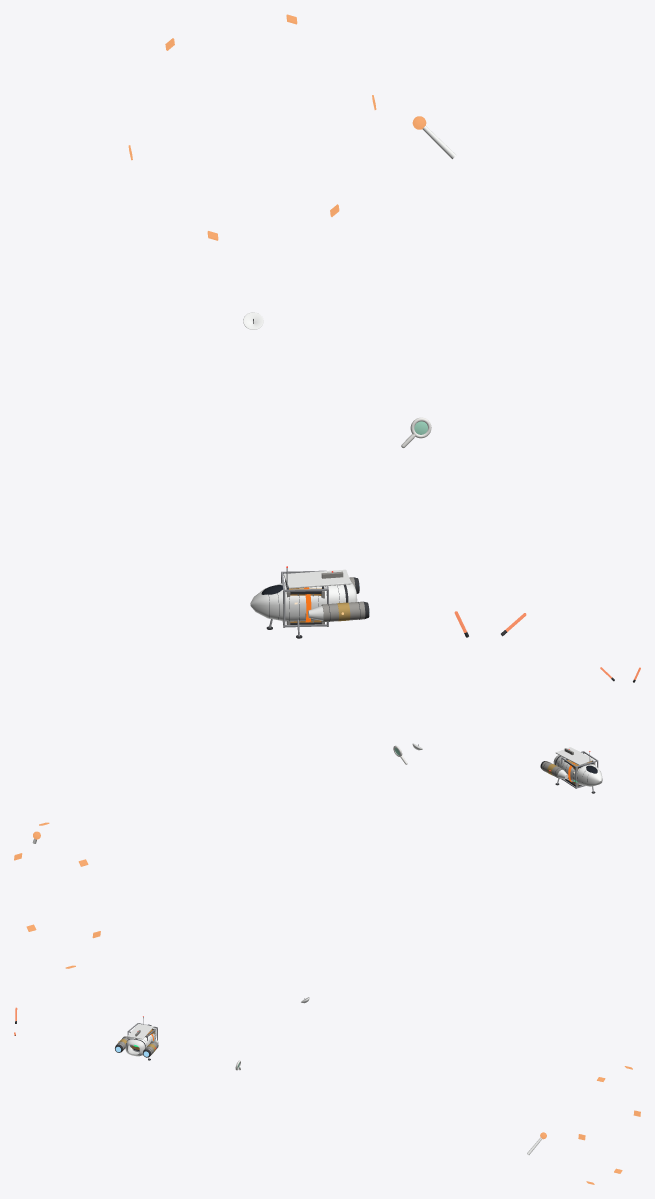
Rendered from actors.glb.
3 views of the same model, one above another, from view 1: azimuth 30°, elevation 25°; view 2: azimuth 150°, elevation 25°; view 3: azimuth 270°, elevation 25° (orthographic). The views are drawn at different scales.
Parts seen in each view (by area): view 1: ship_3; view 2: ship_3; view 3: ship_3.
Boxes of the visible parts, x1=… form: ship_3: x1=250, y1=569, x2=357, y2=621; ship_3: x1=553, y1=747, x2=602, y2=786; ship_3: x1=125, y1=1023, x2=158, y2=1056.
Bounding box in the file's own units: 19.68 × 7.05 × 36.7.
